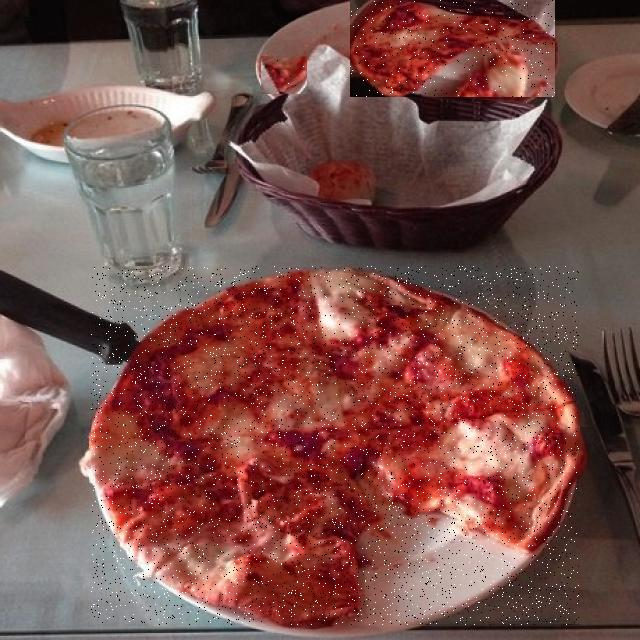Pizza: (91, 266, 579, 625), (350, 0, 555, 97), (261, 57, 307, 94)
